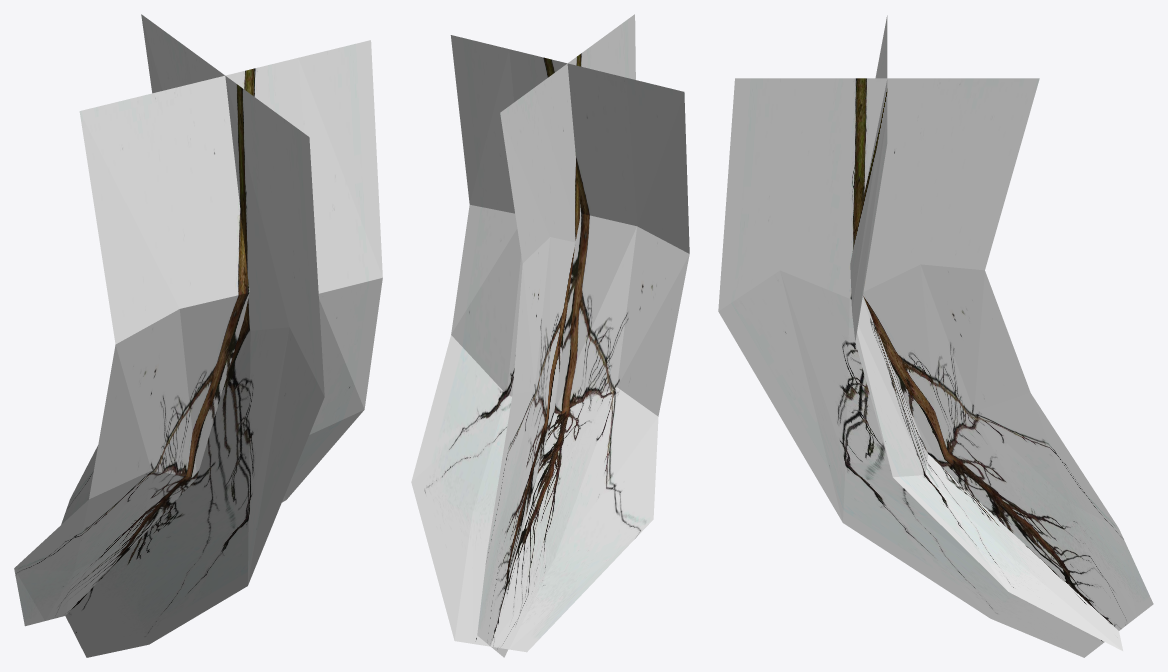
Rendered from prop_v2_6.obj.
3 renders of one model, left to right at view 1: azimuth 30°, elevation 25°; view 2: azimuth 150°, elevation 25°; view 3: azimuth 270°, elevation 25°, orthographic. The views are drawn at different scales.
Parts seen in each view (by area): view 1: prop_v2_6_Plane.008; view 2: prop_v2_6_Plane.008; view 3: prop_v2_6_Plane.008.
Boxes of the visible parts, box(x1,y1,x2,y2) form: prop_v2_6_Plane.008: box(14, 14, 382, 657); prop_v2_6_Plane.008: box(411, 14, 689, 657); prop_v2_6_Plane.008: box(718, 15, 1153, 657).
Size of the model in its own units: 0.3137 by 0.6434 by 0.4283.
